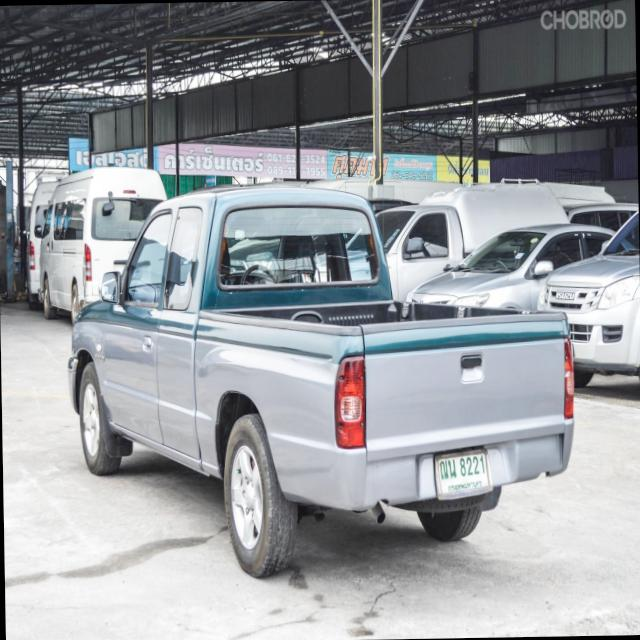license_plate: (432, 446, 493, 500)
